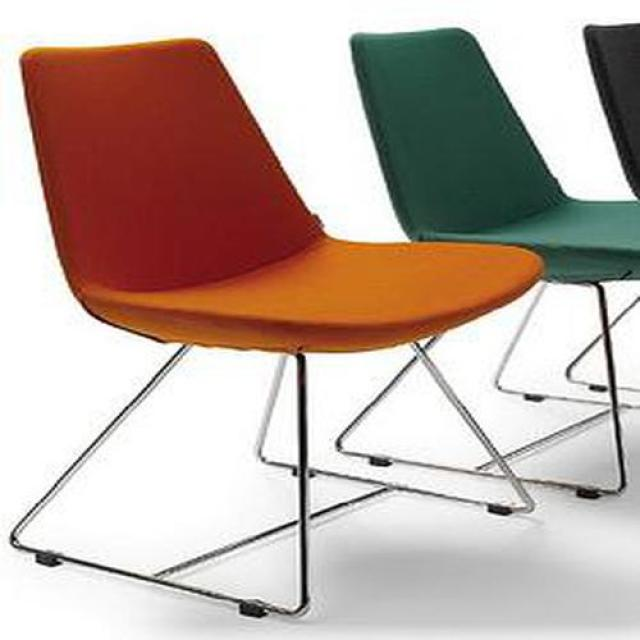chair: (6, 38, 545, 625)
